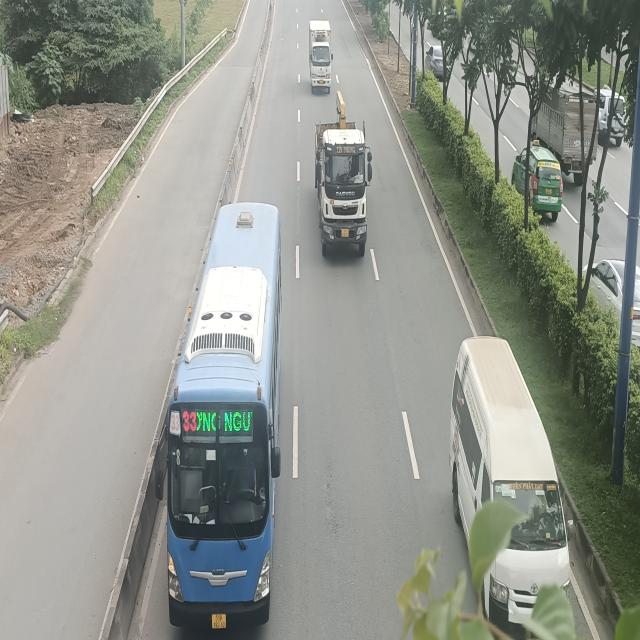coach: (154, 199, 281, 636)
truck: (314, 115, 372, 249), (310, 18, 334, 91)
van: (450, 335, 574, 634)
